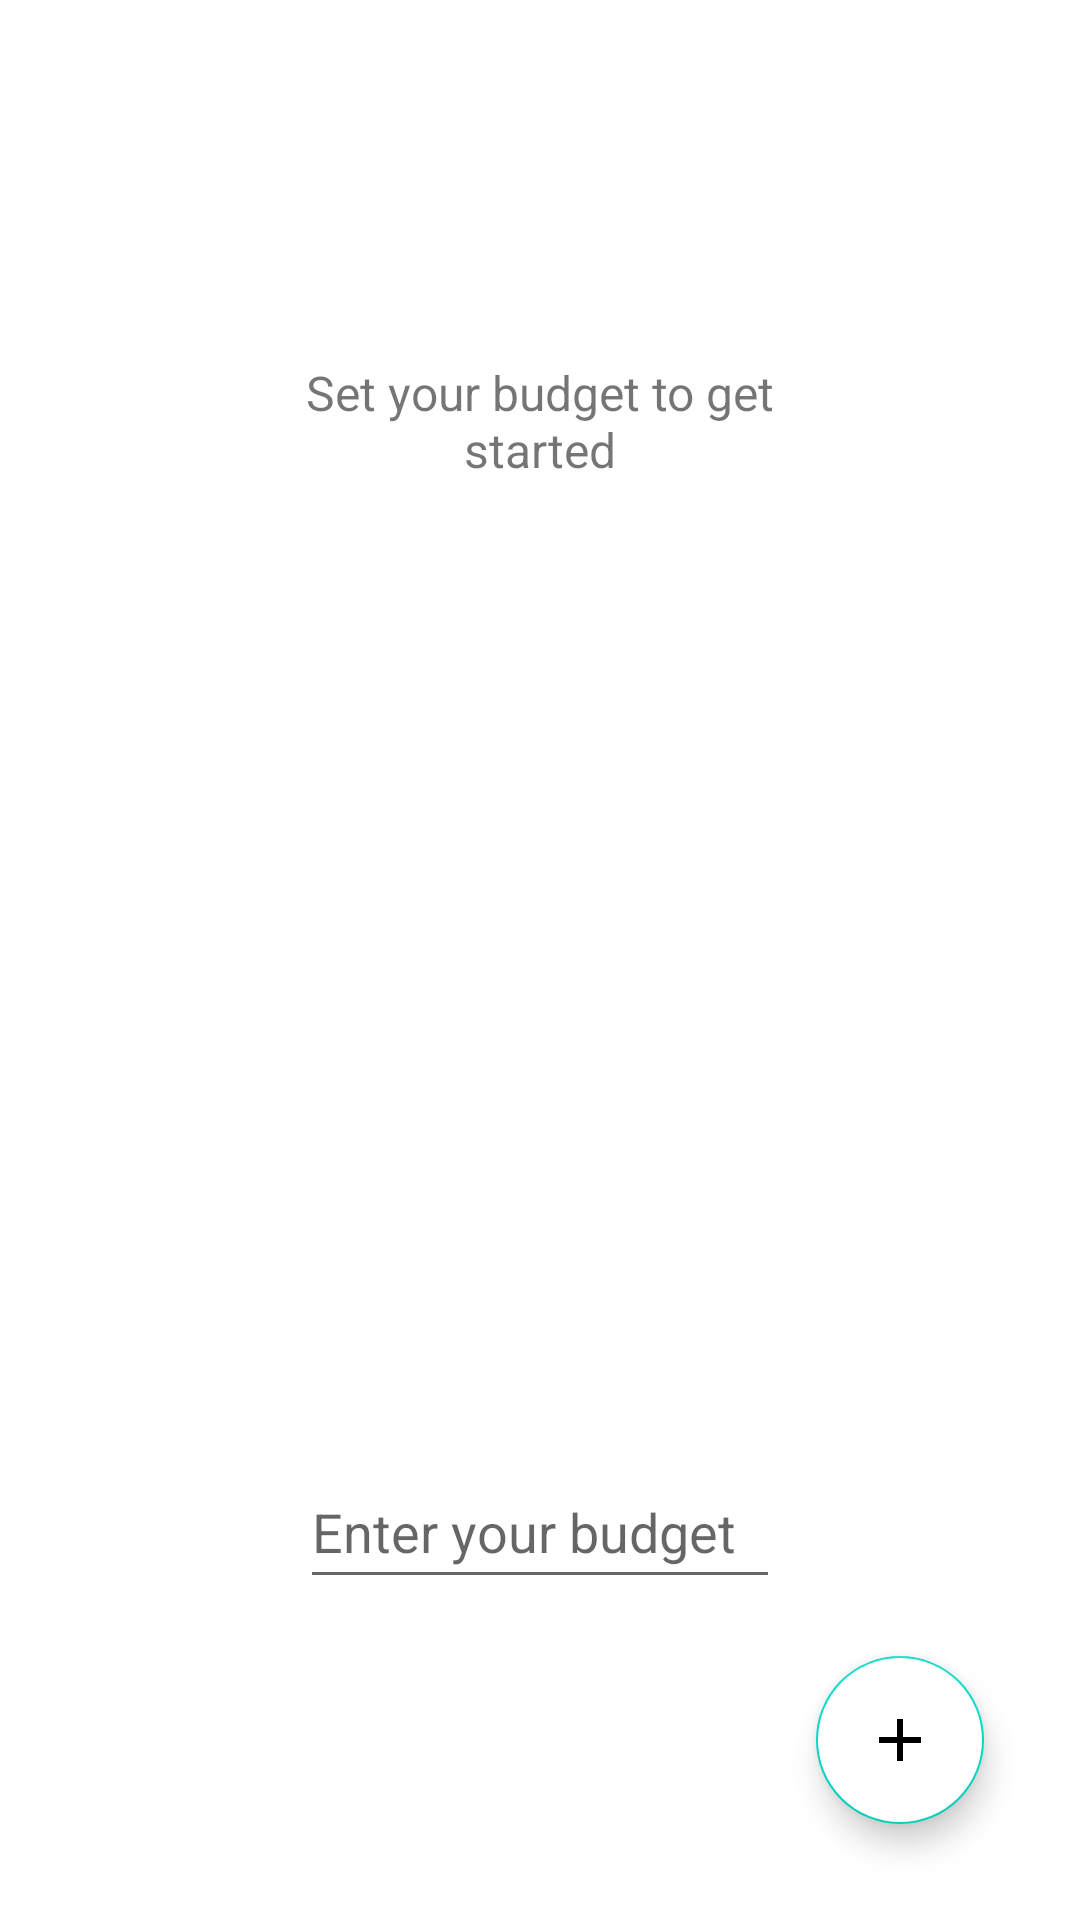

Icons on this 1080w x 1920h Android screen, each with its box as (x1, y1, x2, y2):
plus: (816, 1656, 984, 1824)
